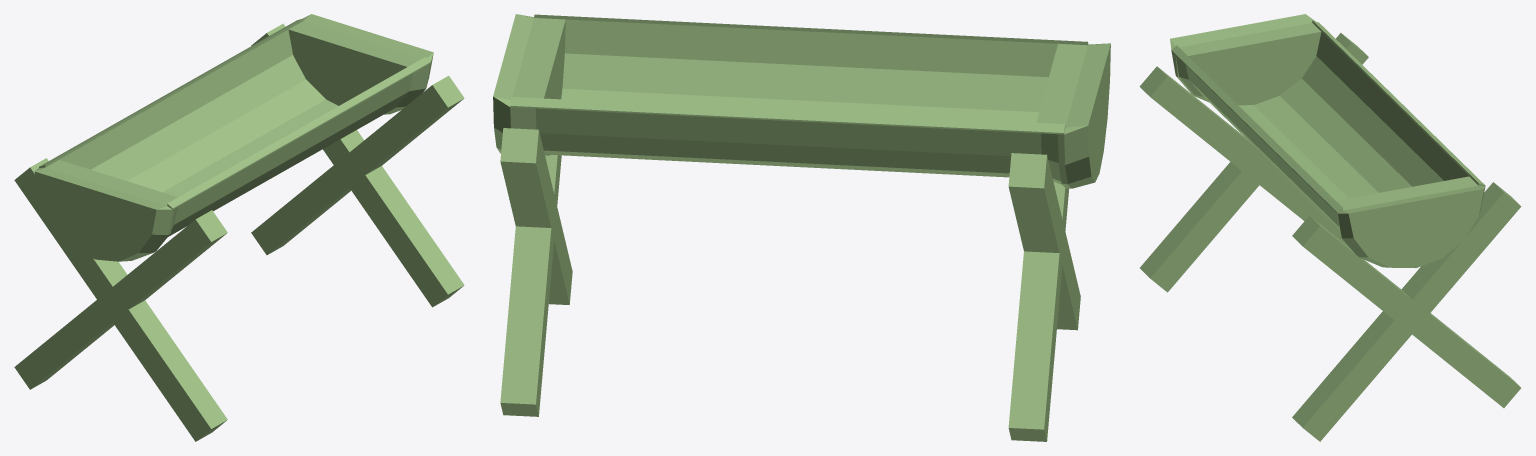
Rendered from cos dla konikow.fbx.
3 views of the same model, side by side, from view 1: azimuth 30°, elevation 25°; view 2: azimuth 150°, elevation 25°; view 3: azimuth 270°, elevation 25° (orthographic). The views are drawn at different scales.
Visible parts, largest first — view 1: cos dla konikow bez tekstury; view 2: cos dla konikow bez tekstury; view 3: cos dla konikow bez tekstury.
Boxes of the visible parts, x1,y1,x2,y2 form: cos dla konikow bez tekstury: (14, 14, 464, 441); cos dla konikow bez tekstury: (493, 14, 1110, 441); cos dla konikow bez tekstury: (1139, 14, 1521, 441).
Bounding box in the file's own units: 650 × 341 × 517.
